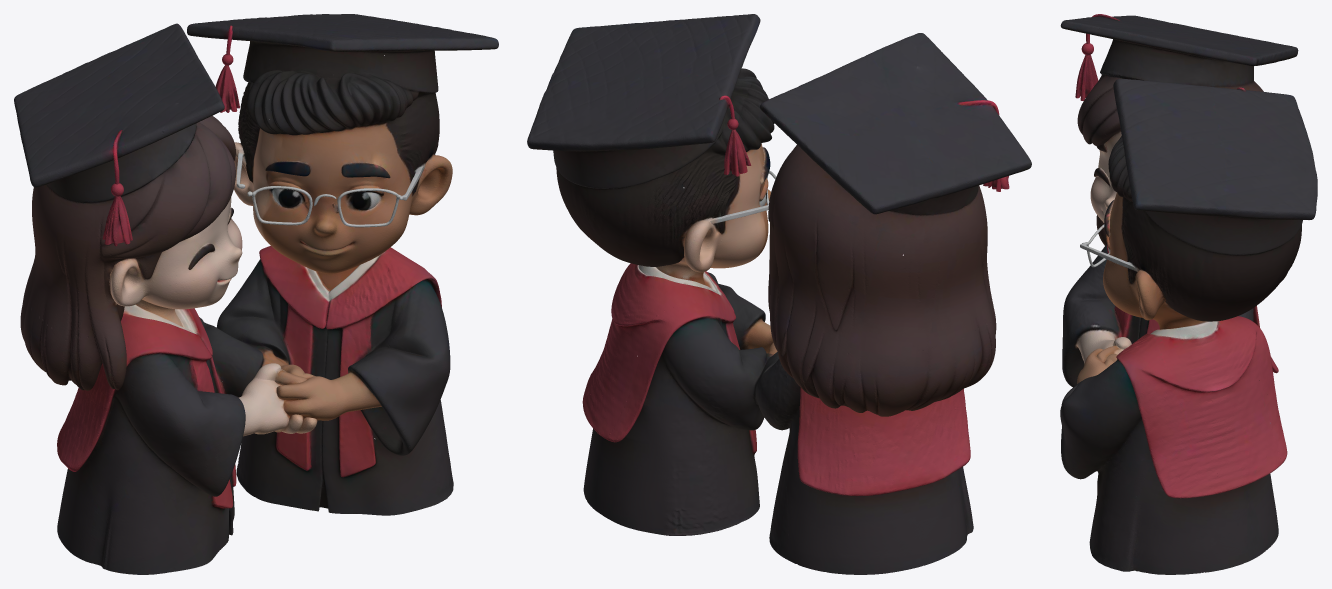
3 renders of one model, left to right at view 1: azimuth 30°, elevation 25°; view 2: azimuth 150°, elevation 25°; view 3: azimuth 270°, elevation 25°, orthographic. The views are drawn at different scales.
Parts seen in each view (by area): view 1: tripo_node_04761330-f7e9-4be4-9602-09c831f7c11f; view 2: tripo_node_04761330-f7e9-4be4-9602-09c831f7c11f; view 3: tripo_node_04761330-f7e9-4be4-9602-09c831f7c11f.
Part boxes in pixels (x1,y1,x2,y2): tripo_node_04761330-f7e9-4be4-9602-09c831f7c11f: (14,14,498,574); tripo_node_04761330-f7e9-4be4-9602-09c831f7c11f: (527,14,1031,574); tripo_node_04761330-f7e9-4be4-9602-09c831f7c11f: (1060,14,1317,574).
Size of the model in its own units: 1.03 by 0.9981 by 0.533.
Materials: 1 (1 with a texture image).
